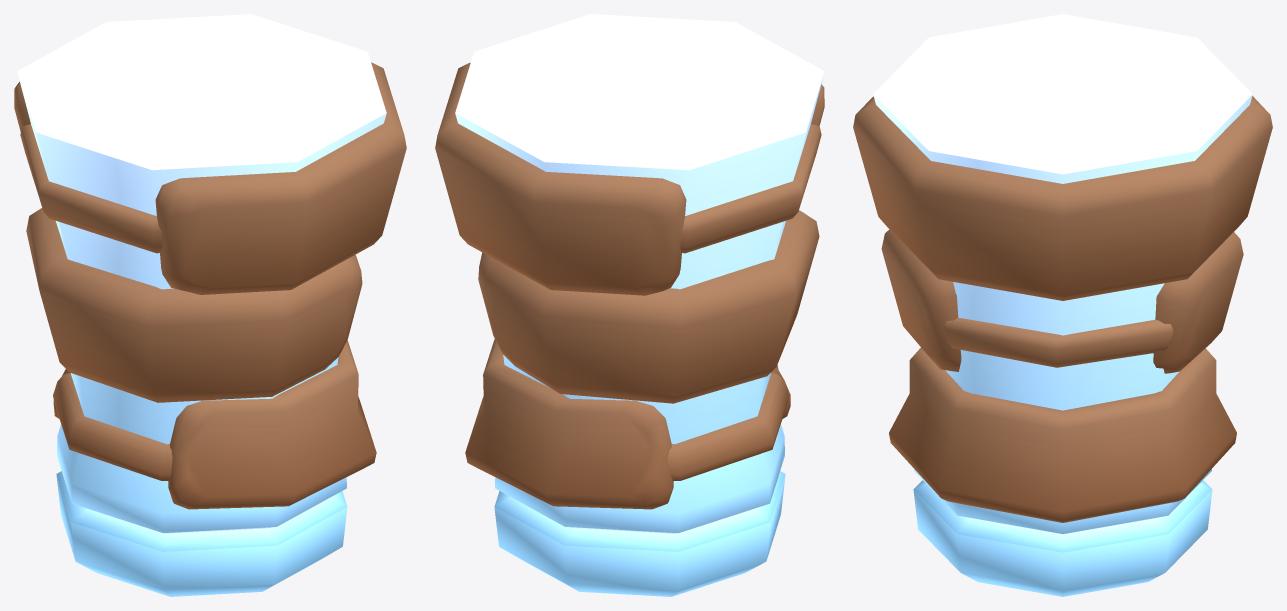
The model's file is steel_grip_046.glb.
The picture shows the model from 3 angles, left to right: view 1: azimuth 30°, elevation 25°; view 2: azimuth 150°, elevation 25°; view 3: azimuth 270°, elevation 25°; orthographic projection.
Visible parts, largest first — view 1: steel_grip_046; view 2: steel_grip_046; view 3: steel_grip_046.
Part boxes in pixels (left/top/right/bottom): steel_grip_046: left=14, top=14, right=406, bottom=596; steel_grip_046: left=435, top=14, right=824, bottom=596; steel_grip_046: left=853, top=14, right=1272, bottom=596.
Size of the model in its own units: 2.79 by 3.48 by 2.93.
1 material, 1 textured.
